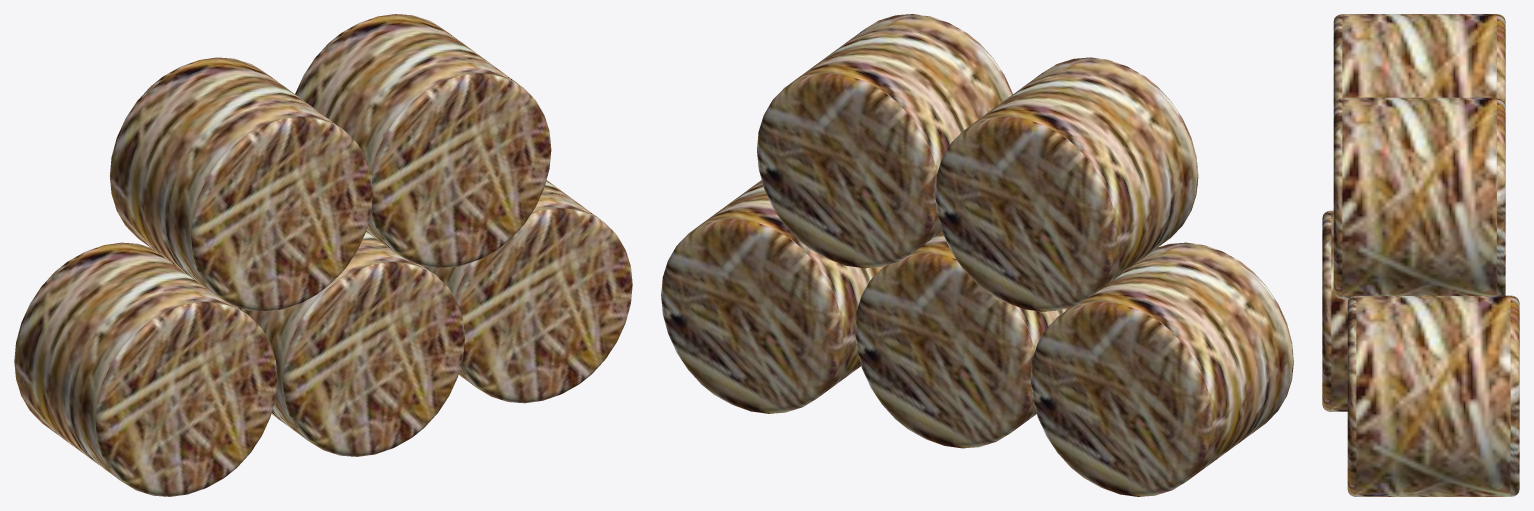
Rendered from Hay_wetField.fbx.
3 views of the same model, side by side, from view 1: azimuth 30°, elevation 25°; view 2: azimuth 150°, elevation 25°; view 3: azimuth 270°, elevation 25° (orthographic). The views are drawn at different scales.
Parts seen in each view (by area): view 1: HayClump_2; view 2: HayClump_2; view 3: HayClump_2.
Boxes of the visible parts, box(x1,y1,x2,y2) form: HayClump_2: box(14, 14, 632, 496); HayClump_2: box(661, 14, 1293, 496); HayClump_2: box(1322, 14, 1519, 496).
Size of the model in its own units: 704 by 435 by 229.
